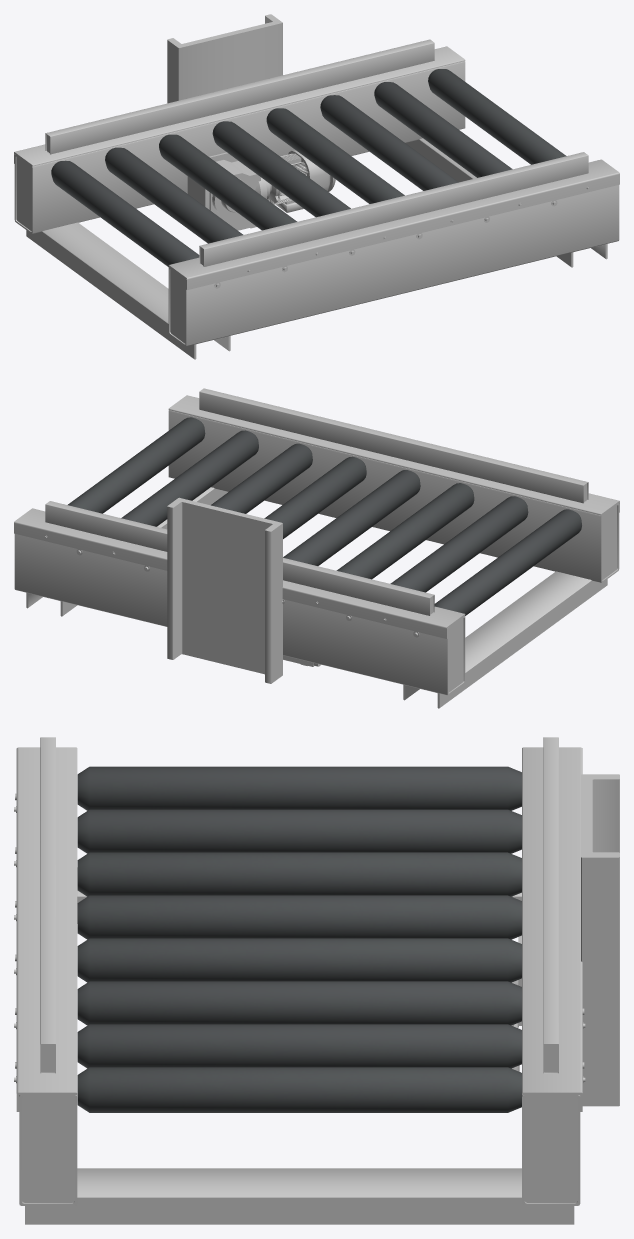
Rendered from Vertical roller conveyor.FBX.
3 renders of one model, top to bottom at view 1: azimuth 30°, elevation 25°; view 2: azimuth 150°, elevation 25°; view 3: azimuth 270°, elevation 25°, orthographic. The views are drawn at different scales.
Parts seen in each view (by area): view 1: Vertical roller conveyor, RollerConveyor_Bearing; view 2: Vertical roller conveyor, RollerConveyor_Bearing; view 3: RollerConveyor_Bearing, Vertical roller conveyor.
Part boxes in pixels (x1,y1,x2,y2): Vertical roller conveyor: [14, 14, 619, 359]; RollerConveyor_Bearing: [51, 69, 566, 266]; Vertical roller conveyor: [14, 388, 619, 708]; RollerConveyor_Bearing: [68, 417, 581, 615]; RollerConveyor_Bearing: [77, 766, 521, 1112]; Vertical roller conveyor: [14, 737, 619, 1224].
Bounding box in the file's own units: 1.61 × 0.5637 × 1.19.
